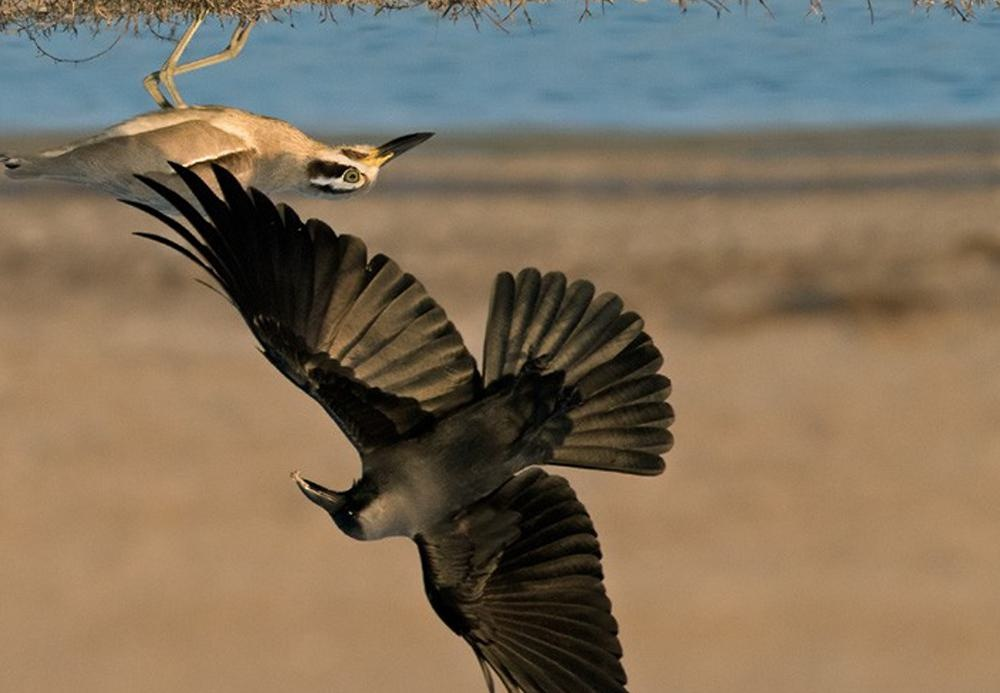crow: (138, 157, 726, 693)
